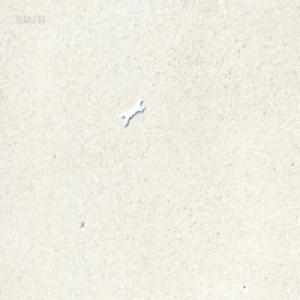Wrench: (122, 98, 144, 126)
